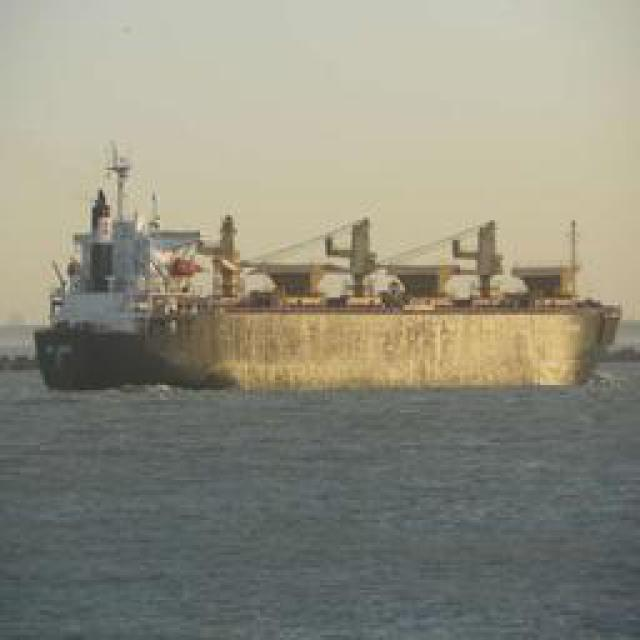Ship: (57, 310, 615, 395)
